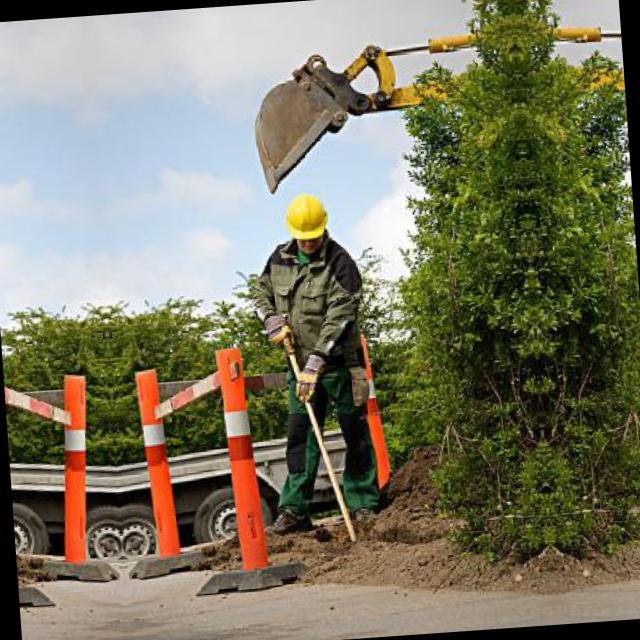helmet: (276, 183, 332, 265)
